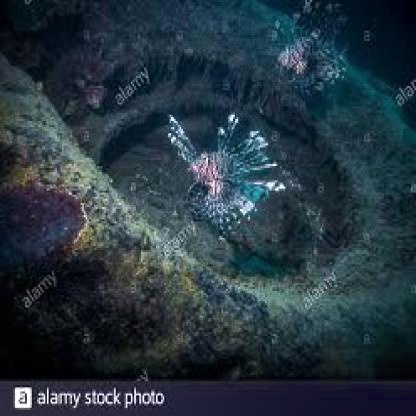tire: (30, 4, 416, 310)
